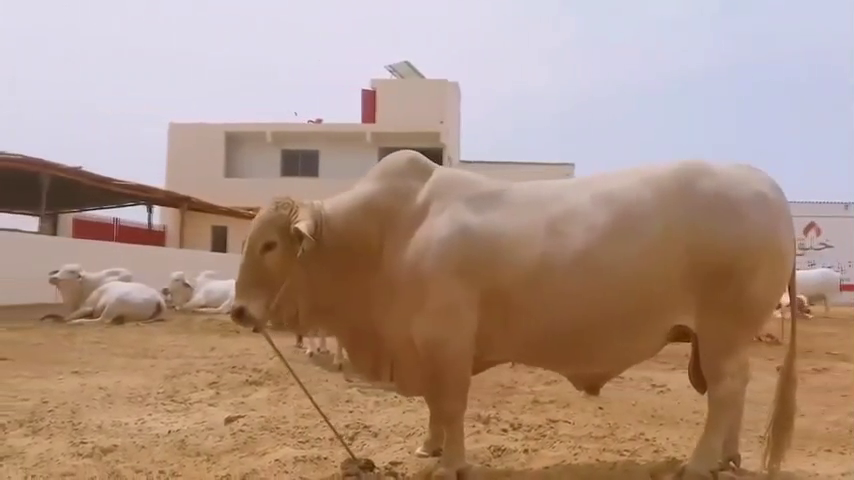bo: (225, 125, 818, 480), (158, 265, 242, 316), (785, 255, 845, 318), (79, 283, 168, 325), (44, 262, 135, 297)
